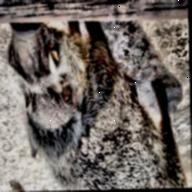boar: (21, 0, 183, 190)
